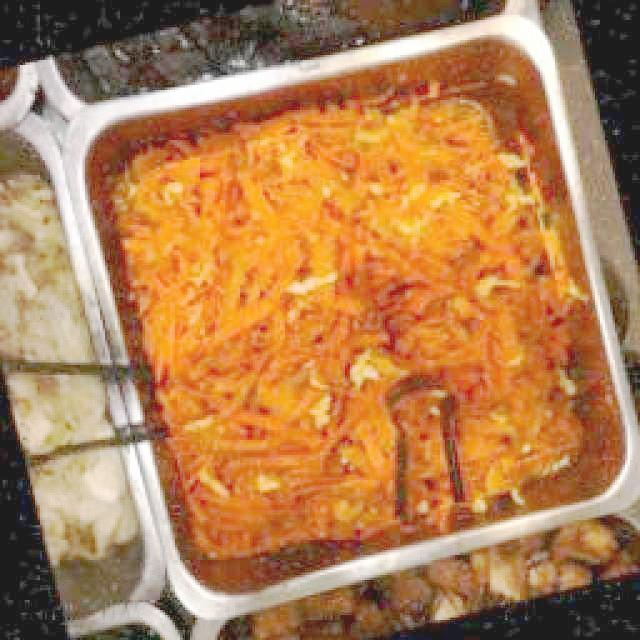carrot_eggs: (115, 87, 590, 556)
